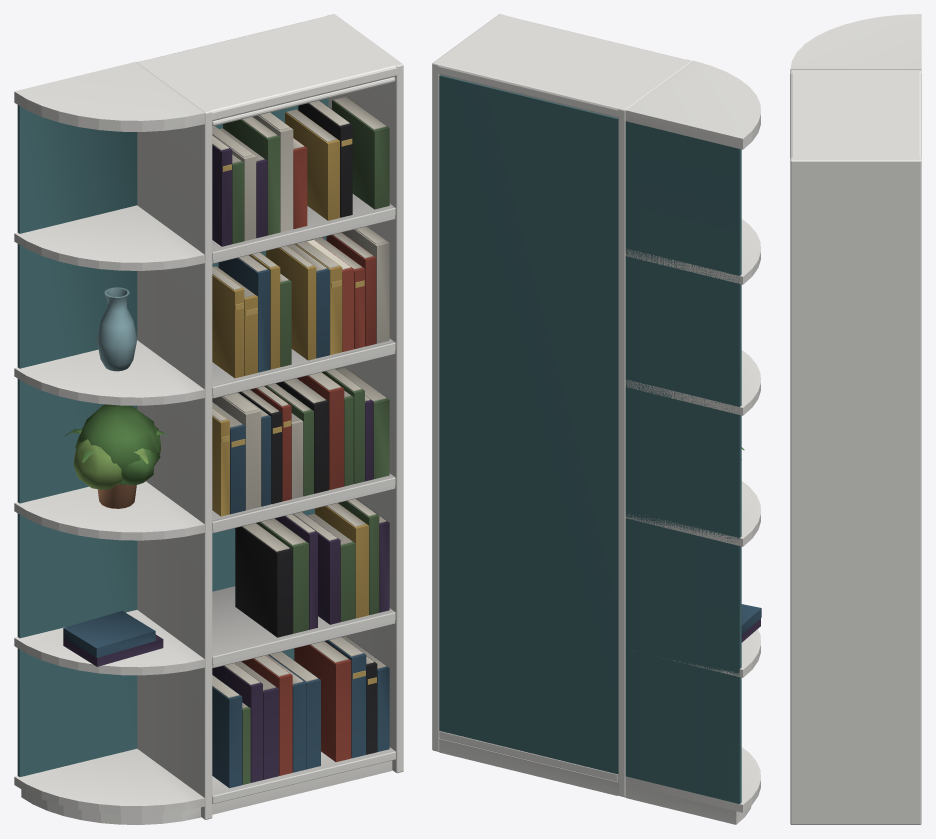
File: bookcaseCorner.glb
3 views of the same model, side by side, from view 1: azimuth 30°, elevation 25°; view 2: azimuth 150°, elevation 25°; view 3: azimuth 270°, elevation 25° (orthographic). The views are drawn at different scales.
Parts seen in each view (by area): view 1: bookcaseCorner, book; view 2: bookcaseCorner; view 3: bookcaseCorner.
Part boxes in pixels (box(x1,y1,x2,y2)): bookcaseCorner: box(14, 14, 403, 824); book: box(307, 239, 353, 351); bookcaseCorner: box(432, 14, 761, 824); bookcaseCorner: box(790, 14, 921, 824).
Size of the model in its own units: 0.9 by 1.9 by 0.34.
